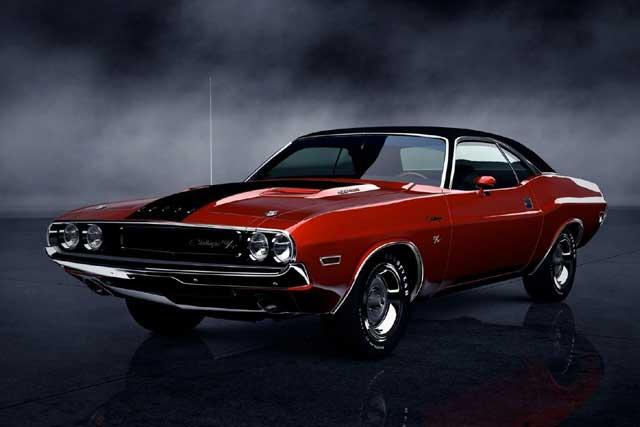dodge: (45, 125, 609, 355)
